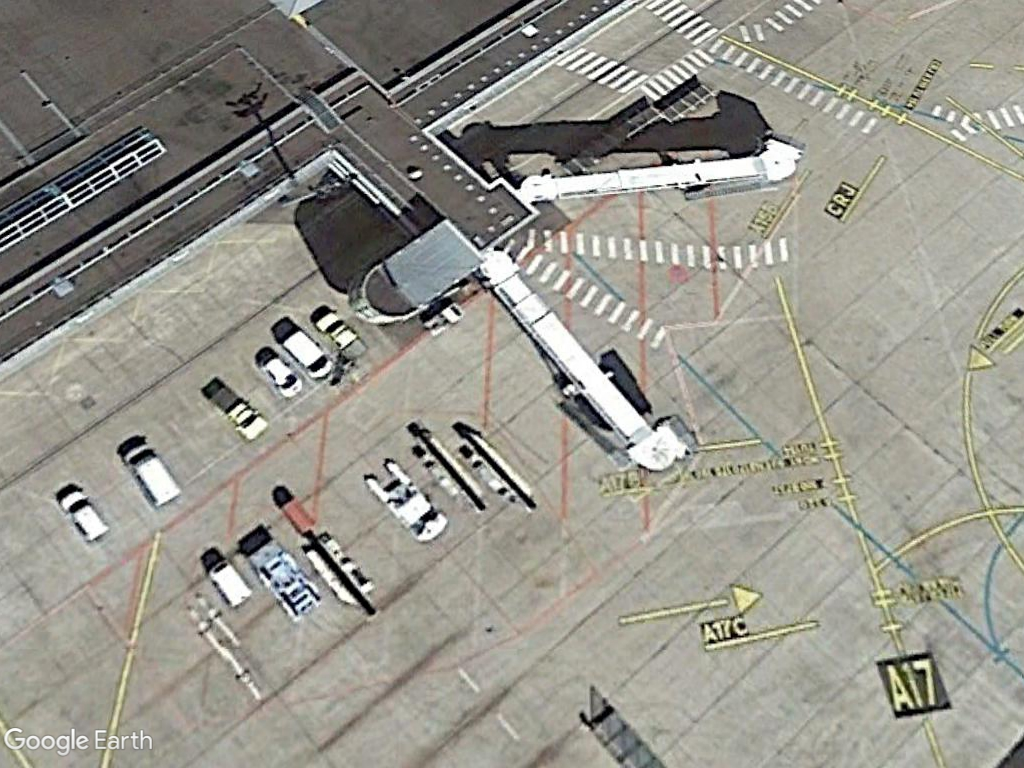pushbacktruck: (360, 455, 449, 546)
van: (115, 440, 185, 508), (54, 485, 115, 545), (274, 327, 338, 381)
